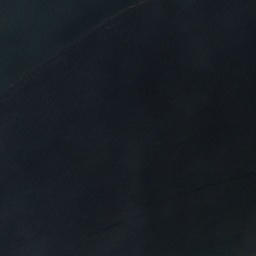Marine Debris: (96, 0, 149, 27)
